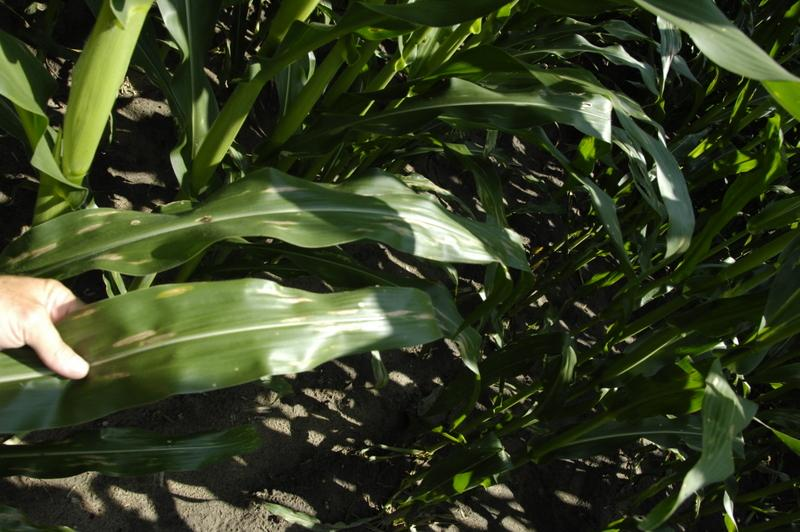Corn leaf blight: (87, 281, 449, 434), (11, 169, 501, 274)
